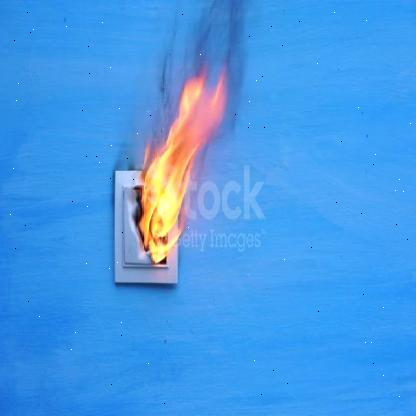fire: (140, 67, 226, 273)
smoke: (121, 3, 256, 176)
